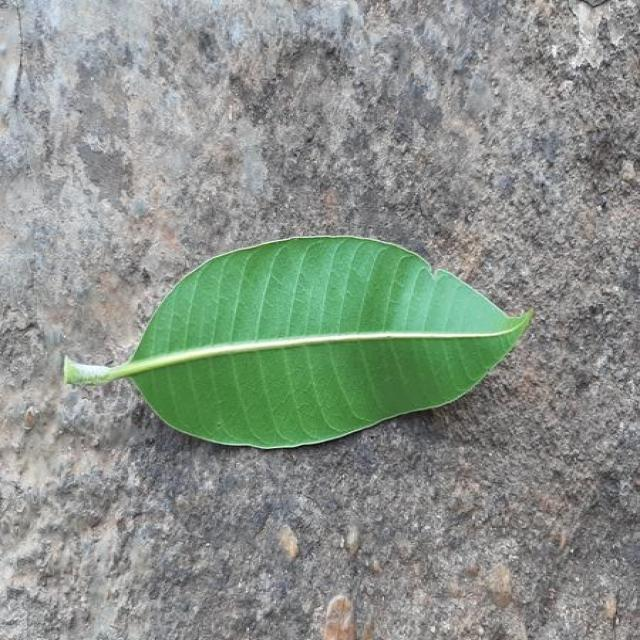mango: (65, 238, 532, 448)
